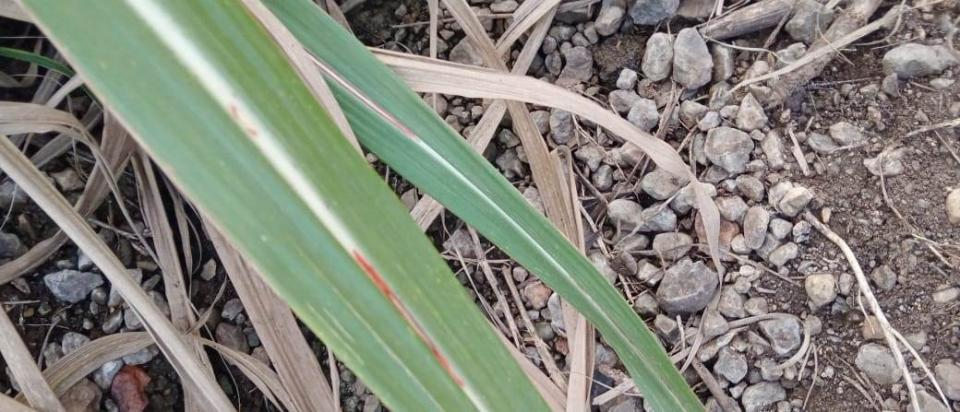RedRot: (350, 247, 467, 391), (306, 49, 424, 146), (230, 104, 258, 140)
